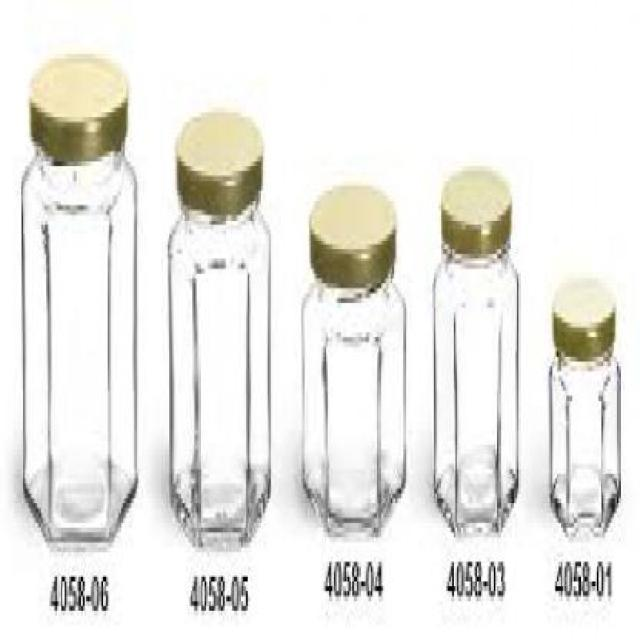kaca: (20, 147, 134, 538), (168, 195, 269, 543), (300, 274, 405, 528), (432, 244, 517, 542), (546, 343, 619, 539)
